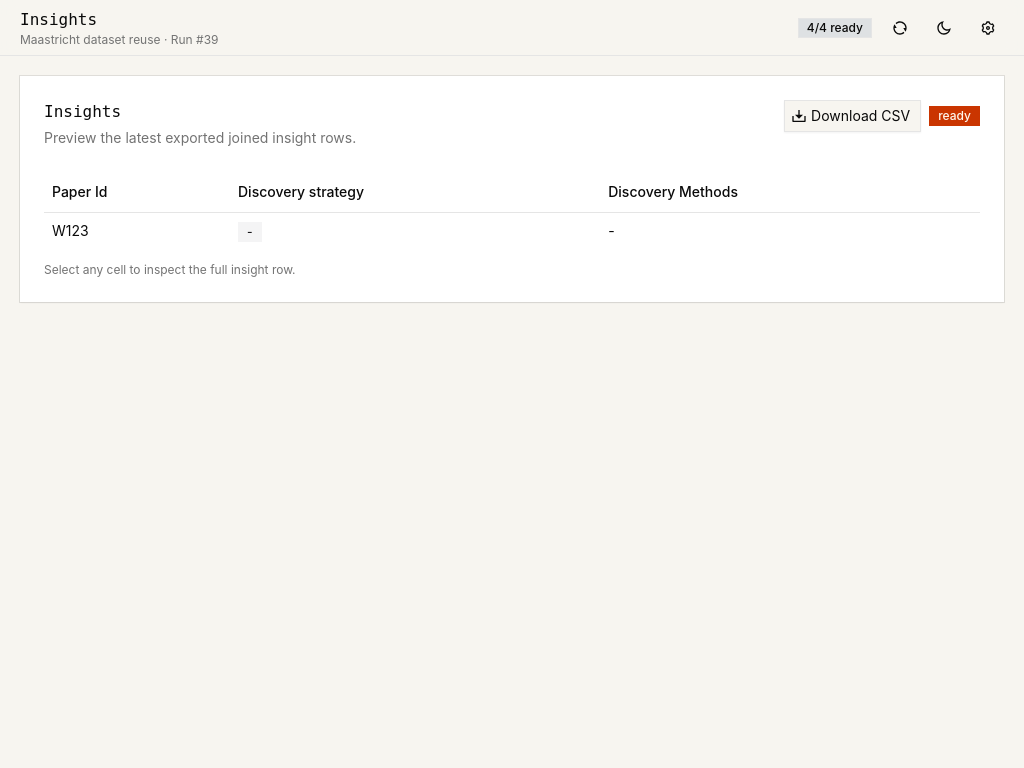
Test: App routed workflow › disables empty insight exports and reports generation failures
Check: the button "W123" is shown, box [52,221,222,241]
Click the button "Download CSV". click: (853, 116)
box: [784,100,921,132]
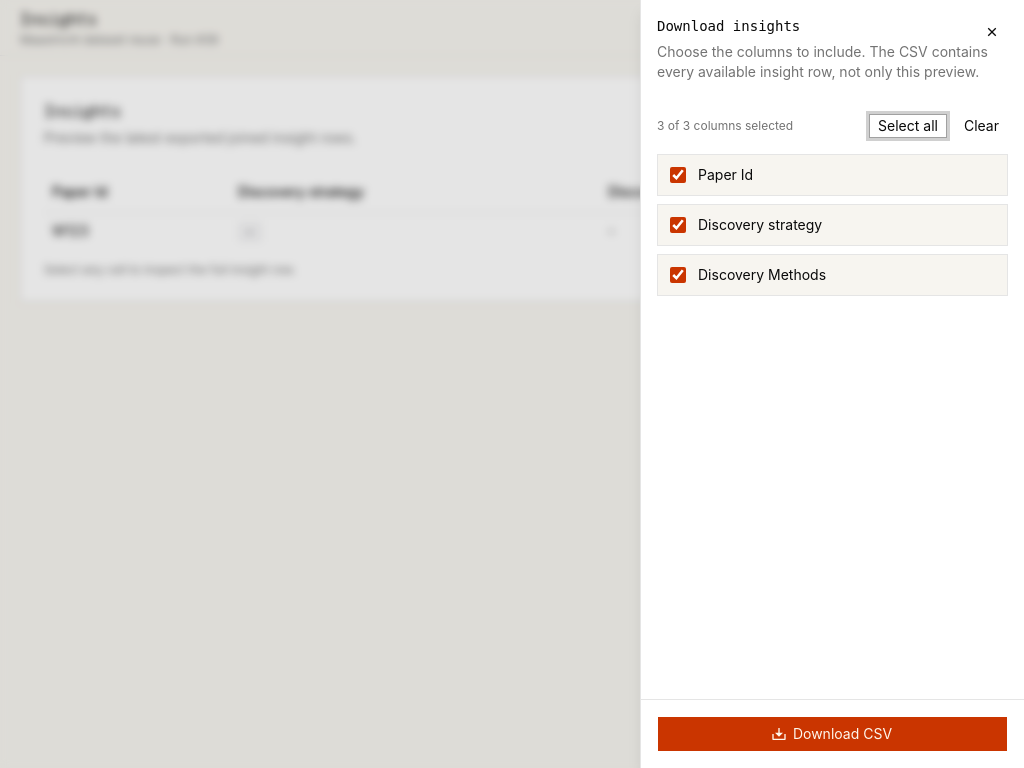
Click the button "Clear". click: (981, 126)
box: [955,114,1008,138]
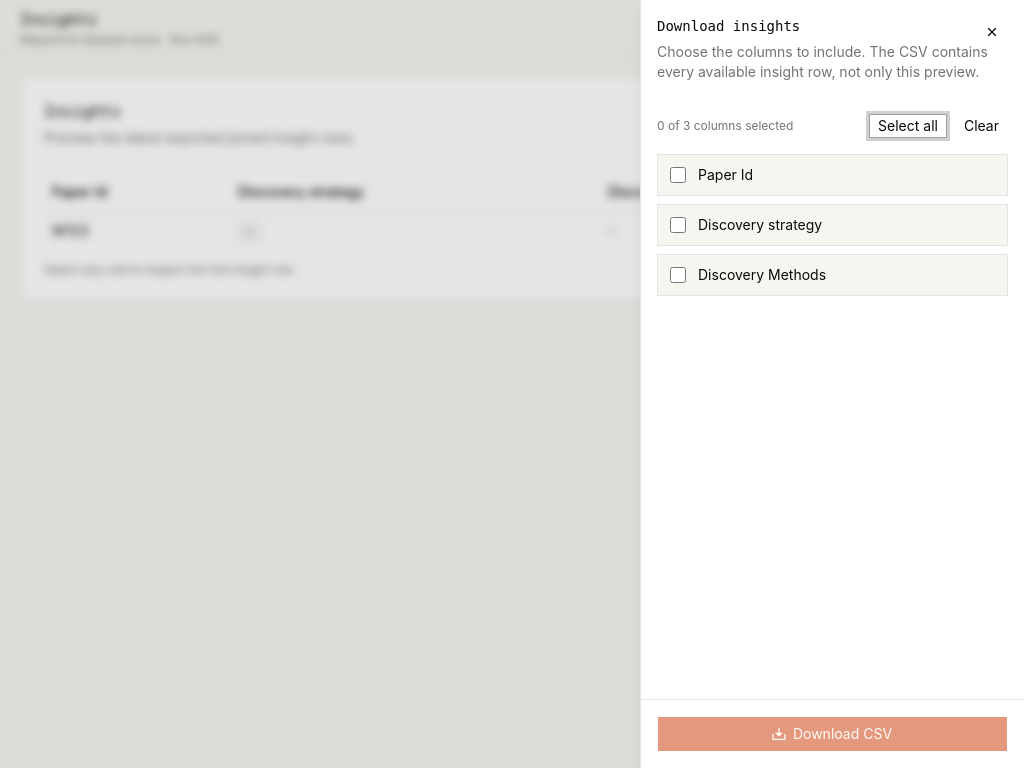
Check: the button "Download CSV" is disabled, box [657,716,1008,752]
Click the button "Select all". click: (908, 126)
box: [869,114,947,138]
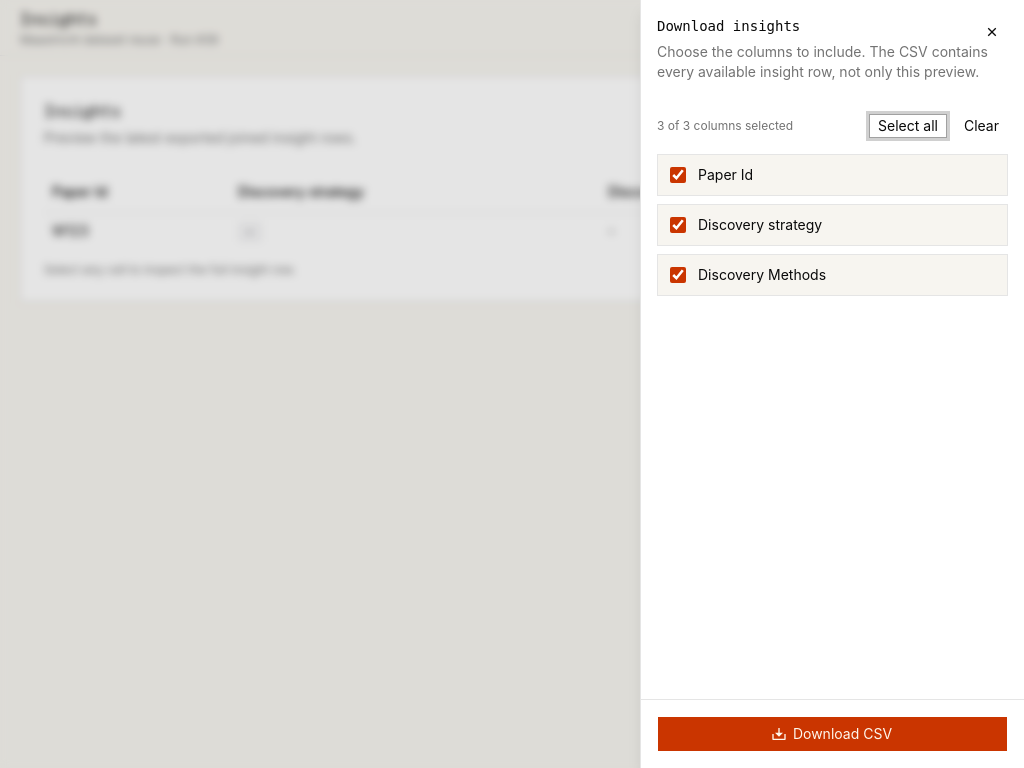
Click the button "Download CSV". click: (832, 734)
box: [657,716,1008,752]
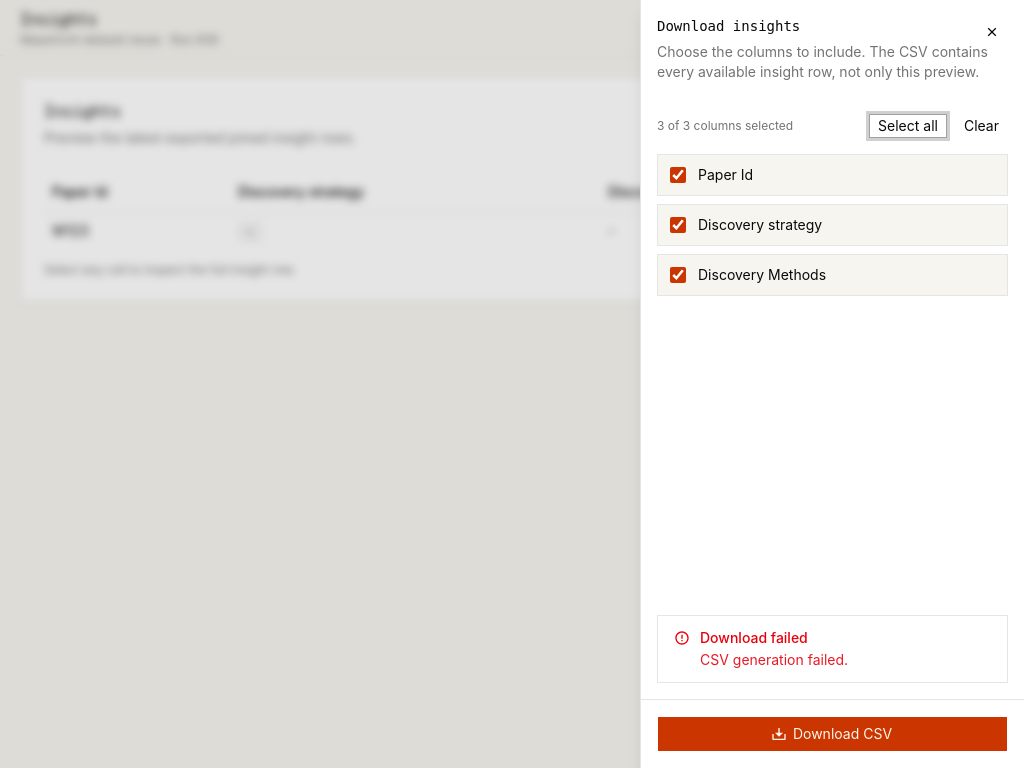
Check: the text "CSV generation failed." is shown, box [700,651,848,668]
